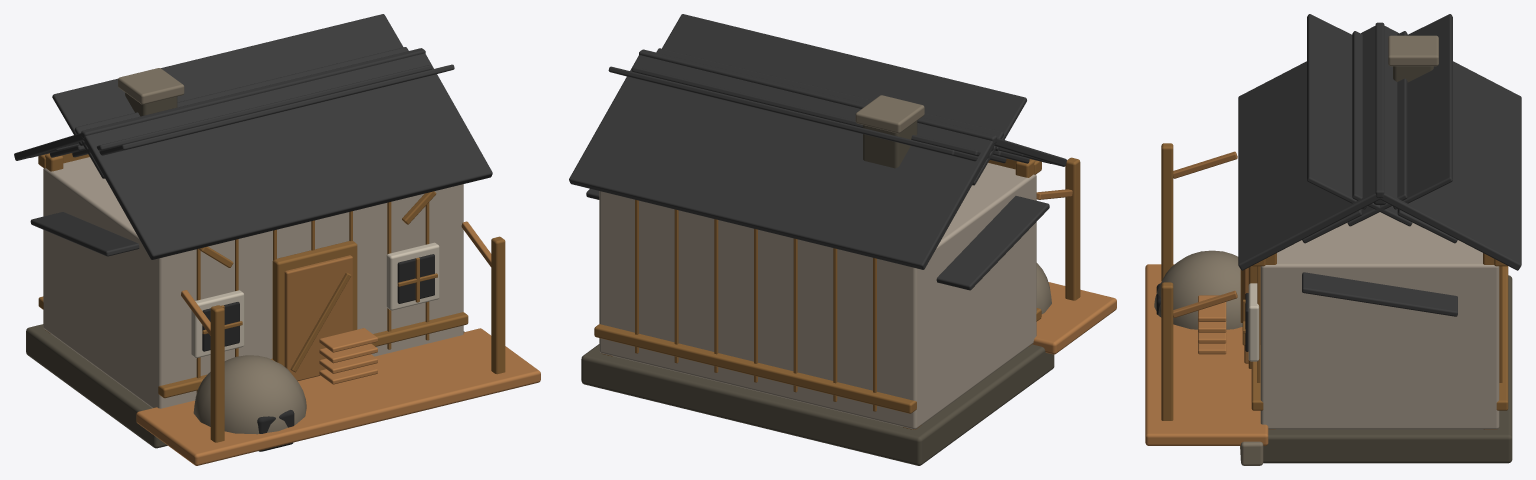
Rendered from bakery-workshop.glb.
The picture shows the model from 3 angles, left to right: view 1: azimuth 30°, elevation 25°; view 2: azimuth 150°, elevation 25°; view 3: azimuth 270°, elevation 25°; orthographic projection. The views are drawn at different scales.
Parts seen in each view (by area): view 1: bakery-workshop-farm-roof-slate, bakery-workshop-farm-plaster, bakery-workshop-farm-wood-light, bakery-workshop-farm-wood-dark, bakery-workshop-farm-stone, bakery-workshop-farm-wood, bakery-workshop-farm-stone-dark, bakery-workshop-farm-trim, bakery-workshop-farm-window; view 2: bakery-workshop-farm-roof-slate, bakery-workshop-farm-plaster, bakery-workshop-farm-stone-dark, bakery-workshop-farm-wood-dark, bakery-workshop-farm-wood-light, bakery-workshop-farm-stone; view 3: bakery-workshop-farm-roof-slate, bakery-workshop-farm-plaster, bakery-workshop-farm-wood-light, bakery-workshop-farm-stone-dark, bakery-workshop-farm-wood-dark, bakery-workshop-farm-stone, bakery-workshop-farm-wood, bakery-workshop-farm-trim.
Boxes of the visible parts, <box> form: bakery-workshop-farm-roof-slate: <box>14,14,492,259</box>; bakery-workshop-farm-plaster: <box>43,157,463,408</box>; bakery-workshop-farm-wood-light: <box>136,328,540,465</box>; bakery-workshop-farm-wood-dark: <box>38,153,505,442</box>; bakery-workshop-farm-stone: <box>118,68,306,434</box>; bakery-workshop-farm-wood: <box>181,221,491,381</box>; bakery-workshop-farm-stone-dark: <box>26,92,464,448</box>; bakery-workshop-farm-trim: <box>191,242,439,358</box>; bakery-workshop-farm-window: <box>202,254,434,451</box>; bakery-workshop-farm-roof-slate: <box>569,14,1066,290</box>; bakery-workshop-farm-plaster: <box>599,163,1036,429</box>; bakery-workshop-farm-stone-dark: <box>581,121,1054,465</box>; bakery-workshop-farm-wood-dark: <box>594,157,1080,429</box>; bakery-workshop-farm-wood-light: <box>1032,282,1116,354</box>; bakery-workshop-farm-stone: <box>855,95,1051,313</box>; bakery-workshop-farm-roof-slate: <box>1238,14,1521,316</box>; bakery-workshop-farm-plaster: <box>1260,212,1499,429</box>; bakery-workshop-farm-wood-light: <box>1145,264,1268,445</box>; bakery-workshop-farm-stone-dark: <box>1263,66,1512,463</box>; bakery-workshop-farm-wood-dark: <box>1161,143,1508,429</box>; bakery-workshop-farm-stone: <box>1154,35,1438,465</box>; bakery-workshop-farm-wood: <box>1173,151,1248,363</box>; bakery-workshop-farm-trim: <box>1248,283,1259,361</box>.
Bounding box in the file's own units: 5.82 × 4.37 × 5.04.
